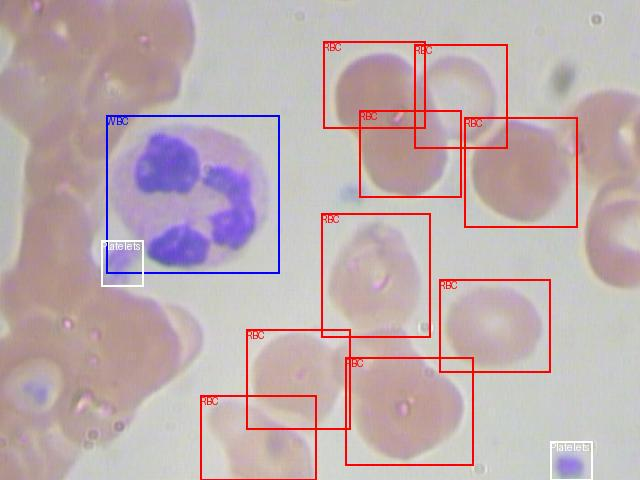Platelets: (101, 240, 143, 286), (550, 441, 592, 480)
RBC: (345, 357, 473, 465), (321, 213, 430, 337), (464, 117, 577, 227), (246, 329, 350, 429), (439, 279, 550, 372), (200, 395, 316, 480), (414, 44, 507, 148), (323, 41, 425, 128), (359, 110, 461, 197)
WBC: (106, 115, 279, 273)
